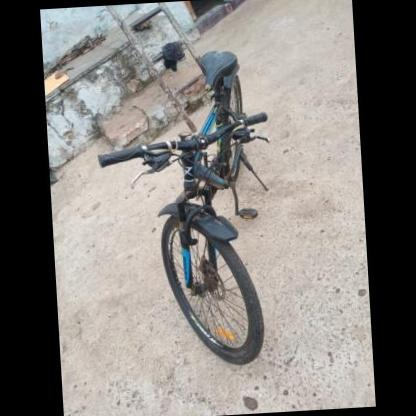Bicycle: (86, 3, 294, 370)
